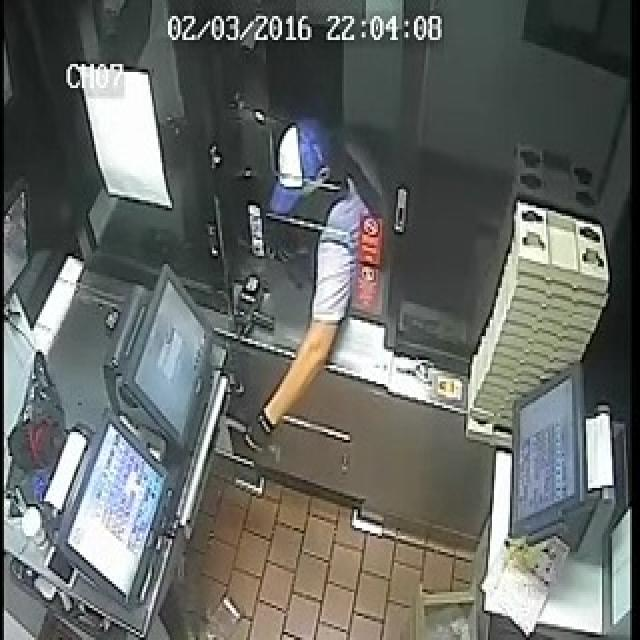thief: (240, 87, 363, 306)
